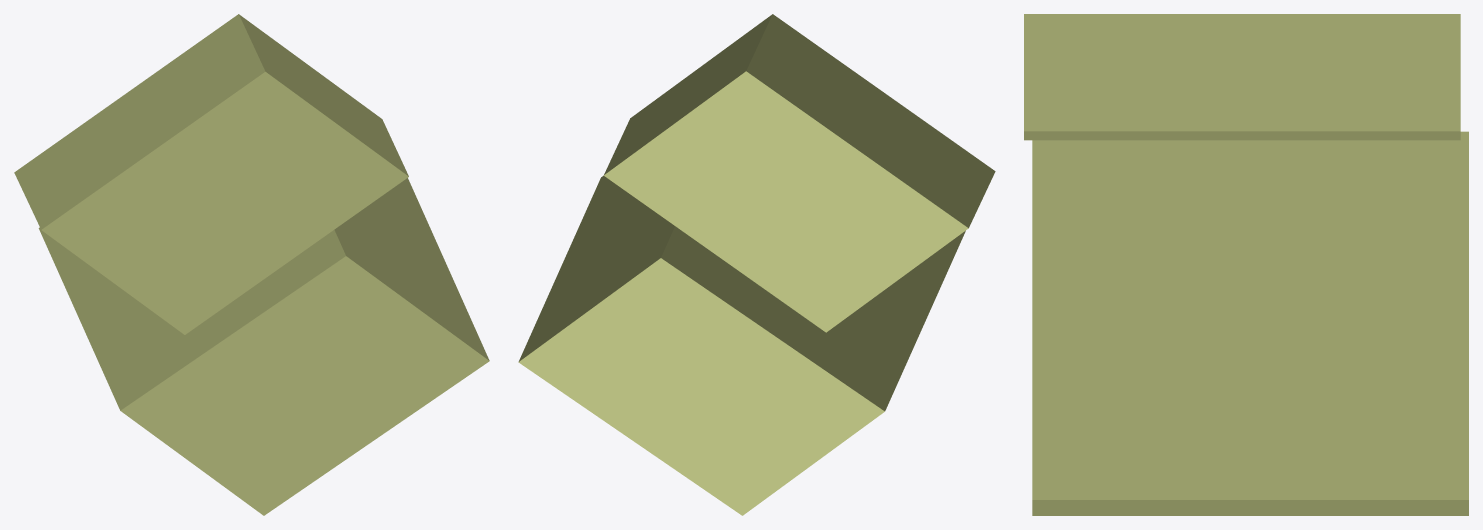
3 views of the same model, side by side, from view 1: azimuth 30°, elevation 25°; view 2: azimuth 150°, elevation 25°; view 3: azimuth 270°, elevation 25° (orthographic). The views are drawn at different scales.
Parts seen in each view (by area): view 1: 0_1_1_3_2_3_0_2_2_3_3; view 2: 0_1_1_3_2_3_0_2_2_3_3; view 3: 0_1_1_3_2_3_0_2_2_3_3.
Part boxes in pixels (x1=…): 0_1_1_3_2_3_0_2_2_3_3: x1=14, y1=14, x2=489, y2=515; 0_1_1_3_2_3_0_2_2_3_3: x1=518, y1=14, x2=995, y2=515; 0_1_1_3_2_3_0_2_2_3_3: x1=1024, y1=14, x2=1468, y2=515.
Size of the model in its own units: 8.07 by 8.54 by 6.11.
